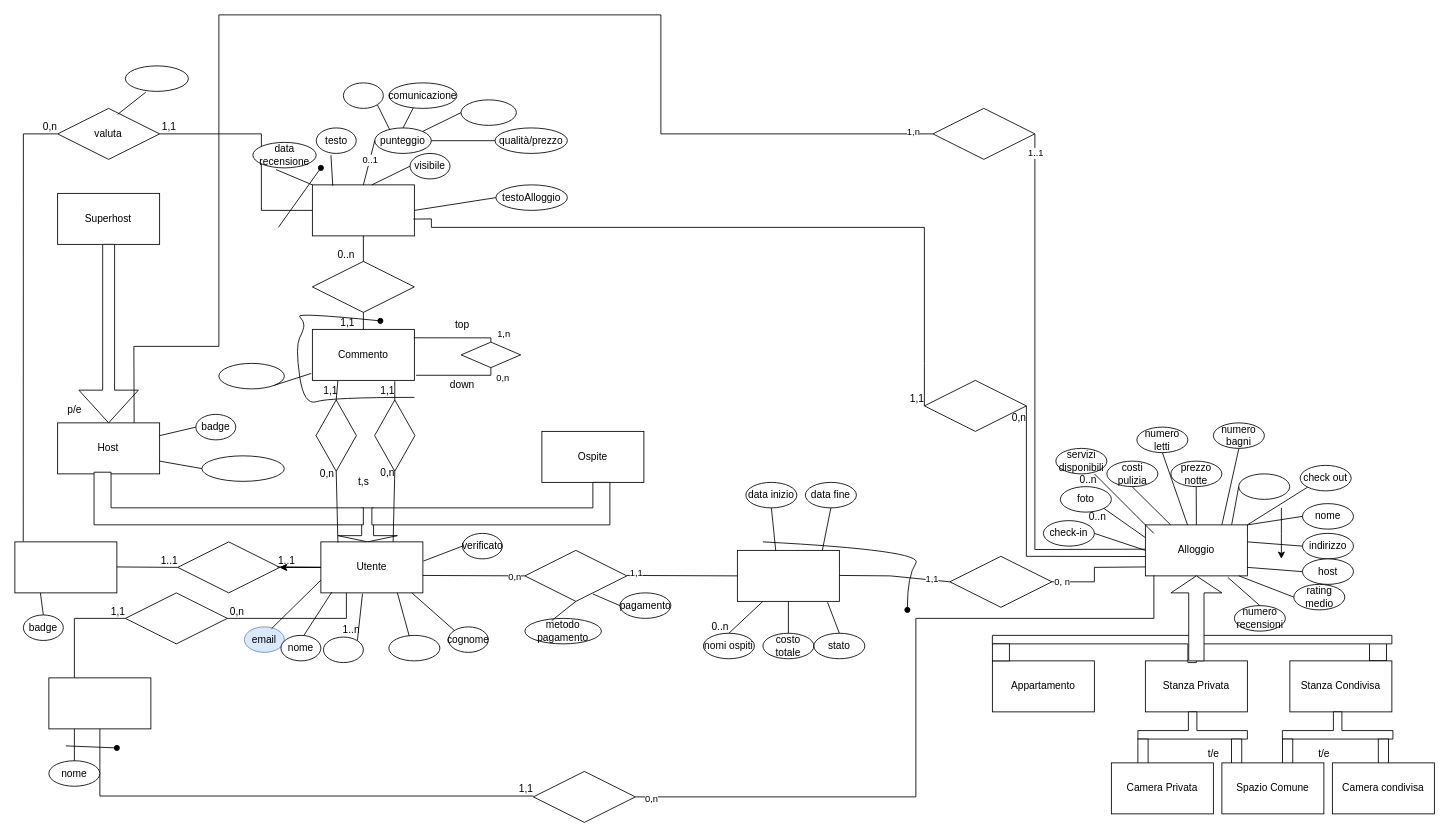
This 1449x837 diagram has some shape labels left out. Here are the shapes that lost their labels. From the top down, the centre of each, then its label:
At [156,78]: "ruolo".
At [363,95]: "pulzia".
At [488,112]: "posizione".
At [983,133]: "possiede".
At [363,210]: "Recensione".
At [363,286]: "comprende".
At [490,354]: "interazione".
At [251,376]: "data commento".
At [975,405]: "riceve".
At [335,435]: "mandante".
At [394,435]: "ricevemente".
At [242,468]: "tasso cancellazione".
At [1264,486]: "descrizione".
At [65,567]: "Profilo".
At [228,567]: "identificabile".
At [575,575]: "effettua".
At [788,575]: "Prenotazione".
At [1000,581]: "riserva".
At [176,618]: "aggiunge".
At [1196,618]: "t/s".
At [343,649]: "numero".
At [414,648]: "password".
At [99,703]: "Preferiti".
At [584,796]: "selezionato".
